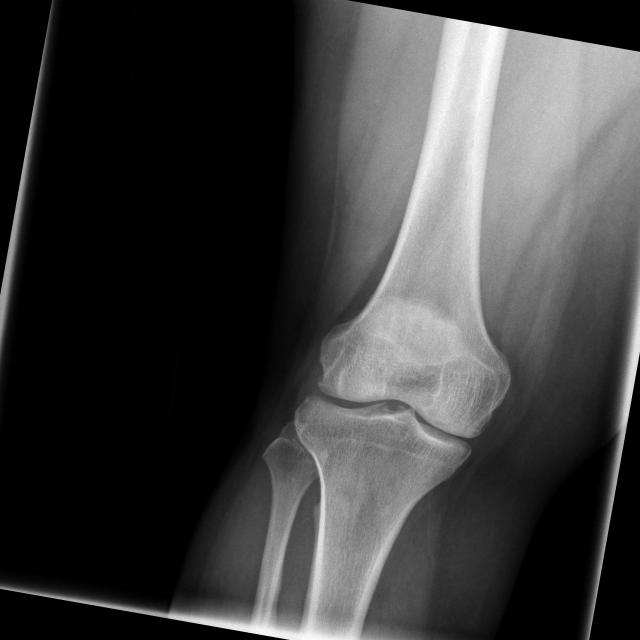Knee: (284, 305, 517, 496)
